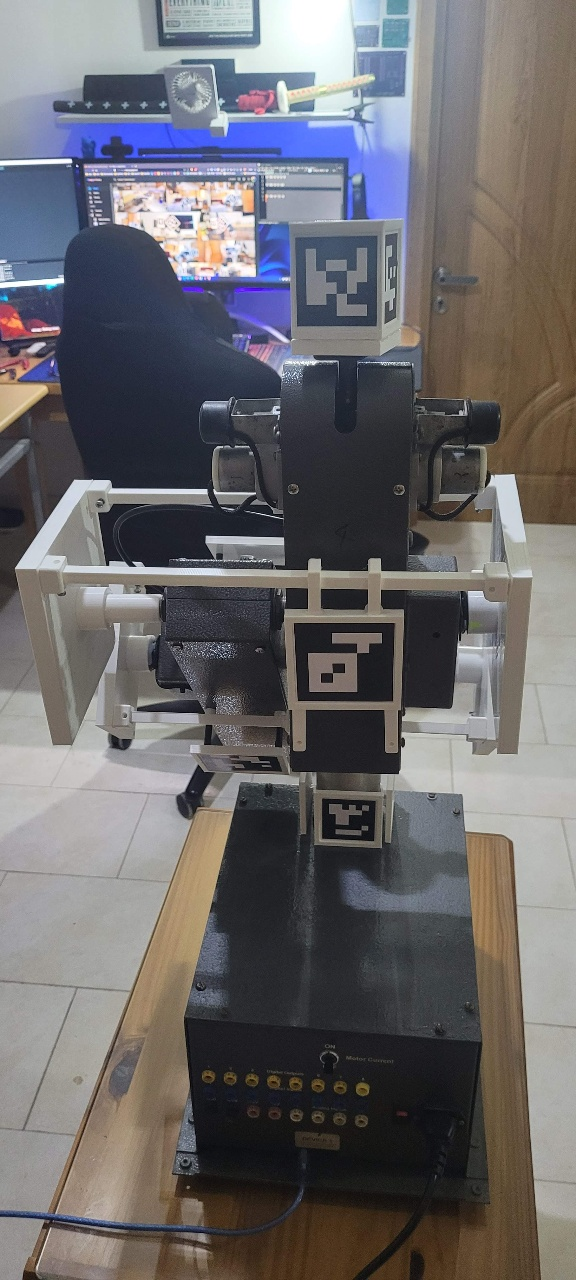Robot: (15, 219, 537, 847)
